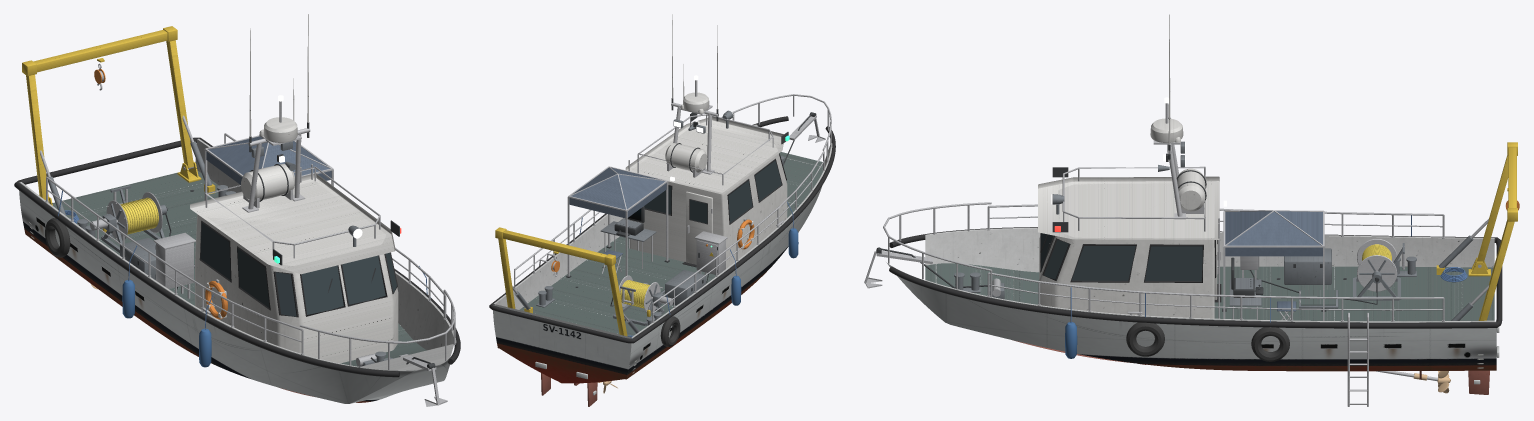
The model's file is workboat.glb.
The picture shows the model from 3 angles, left to right: view 1: azimuth 30°, elevation 25°; view 2: azimuth 150°, elevation 25°; view 3: azimuth 270°, elevation 25°; orthographic projection. The views are drawn at different scales.
Parts seen in each view (by area): view 1: Vessel_white, Vessel_hull, Vessel_steel, Vessel_glass, Vessel_rubber, Vessel_deck, Vessel_bulwark, Vessel_yellow, Vessel_grey, Vessel_canvas, Vessel_alu, Drum_tether (+5 smaller); view 2: Vessel_white, Vessel_deck, Vessel_transom, Vessel_steel, Vessel_hull, Vessel_rubber, Vessel_bulwark, Vessel_canvas, Vessel_grey, Vessel_yellow, Vessel_alu, Vessel_glass (+7 smaller); view 3: Vessel_hull, Vessel_white, Vessel_deck, Vessel_bulwark, Vessel_steel, Vessel_rubber, Vessel_glass, Vessel_grey, Vessel_canvas, Vessel_yellow, Vessel_alu, Vessel_tyre (+3 smaller).
Part boxes in pixels (x1,y1,x2,y2): Vessel_white: [190, 14, 398, 363]; Vessel_hull: [19, 182, 451, 403]; Vessel_steel: [40, 63, 455, 406]; Vessel_glass: [200, 223, 396, 316]; Vessel_rubber: [14, 137, 460, 377]; Vessel_deck: [52, 170, 426, 366]; Vessel_bulwark: [20, 138, 456, 370]; Vessel_yellow: [22, 26, 215, 232]; Vessel_grey: [48, 141, 392, 367]; Vessel_canvas: [206, 136, 331, 184]; Vessel_alu: [204, 101, 333, 212]; Drum_tether: [120, 197, 158, 234]; Vessel_white: [625, 14, 787, 268]; Vessel_deck: [519, 152, 823, 335]; Vessel_transom: [493, 304, 631, 383]; Vessel_steel: [512, 94, 831, 322]; Vessel_hull: [626, 178, 821, 378]; Vessel_rubber: [489, 116, 835, 343]; Vessel_bulwark: [494, 124, 832, 338]; Vessel_canvas: [569, 167, 666, 258]; Vessel_grey: [514, 110, 784, 333]; Vessel_yellow: [495, 227, 713, 336]; Vessel_alu: [539, 80, 718, 276]; Vessel_glass: [644, 160, 781, 223]; Vessel_hull: [886, 262, 1496, 371]; Vessel_white: [1038, 14, 1219, 319]; Vessel_deck: [925, 263, 1494, 322]; Vessel_bulwark: [925, 227, 1494, 322]; Vessel_steel: [864, 166, 1489, 380]; Vessel_rubber: [889, 227, 1502, 328]; Vessel_glass: [1041, 233, 1202, 281]; Vessel_grey: [954, 141, 1473, 320]; Vessel_canvas: [1225, 211, 1322, 311]; Vessel_yellow: [1436, 142, 1517, 320]; Vessel_alu: [1153, 103, 1368, 406]; Vessel_tyre: [1126, 266, 1407, 361].
Size of the model in its own units: 4.35 by 7.33 by 12.32.
28 materials, 14 textured.
